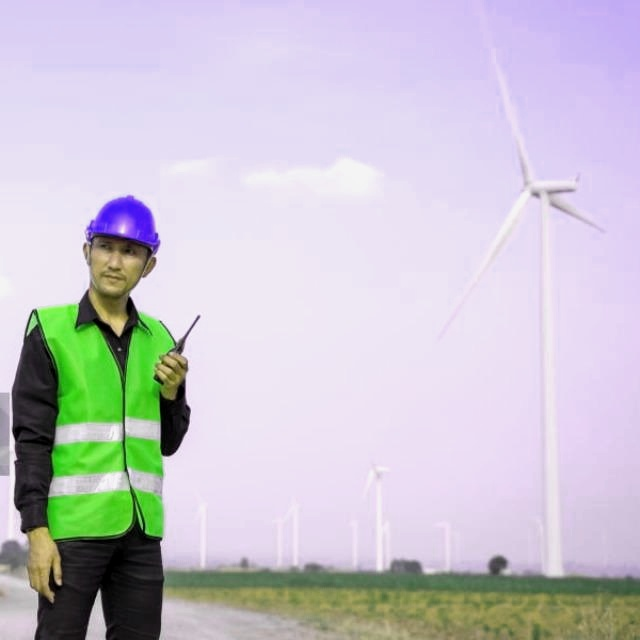Con_Casco: (82, 194, 162, 298)
Con_Chaleco: (18, 303, 177, 542)
